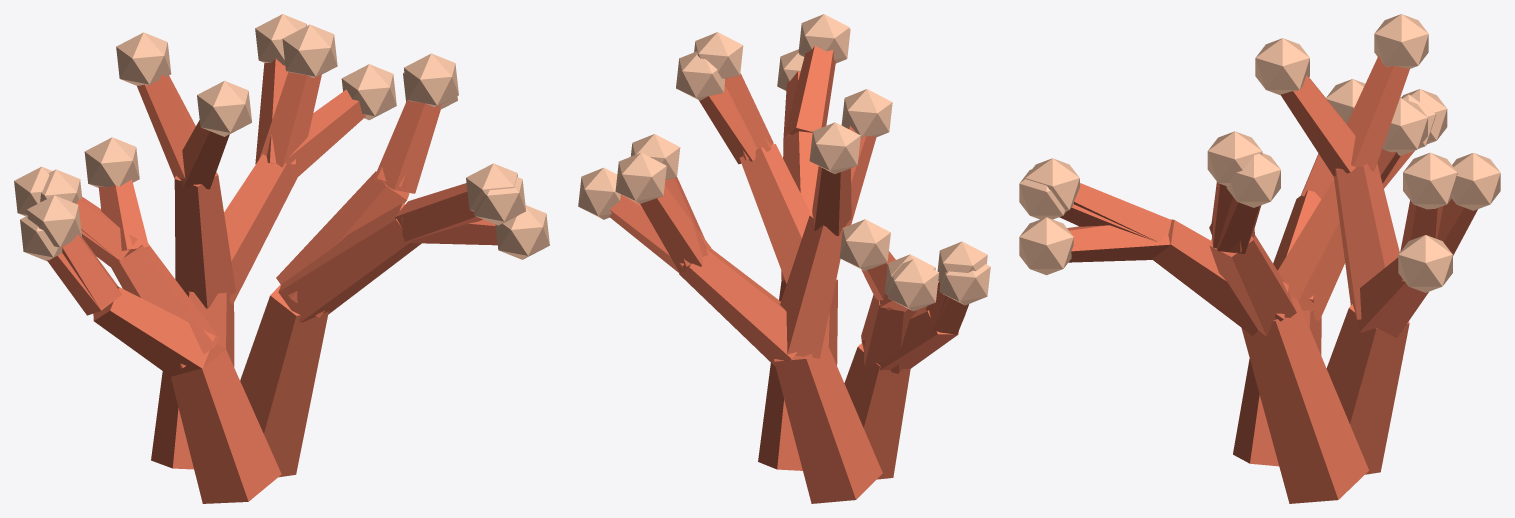
File: coral_branch.glb
The picture shows the model from 3 angles, left to right: view 1: azimuth 30°, elevation 25°; view 2: azimuth 150°, elevation 25°; view 3: azimuth 270°, elevation 25°; orthographic projection. The views are drawn at different scales.
Visible parts, largest first — view 1: coral_branch; view 2: coral_branch; view 3: coral_branch.
Boxes of the visible parts, x1,y1,x2,y2 form: coral_branch: (14,14,549,503); coral_branch: (578,14,990,503); coral_branch: (1019,14,1500,503).
Size of the model in its own units: 0.7345 by 0.7426 by 0.7355.
